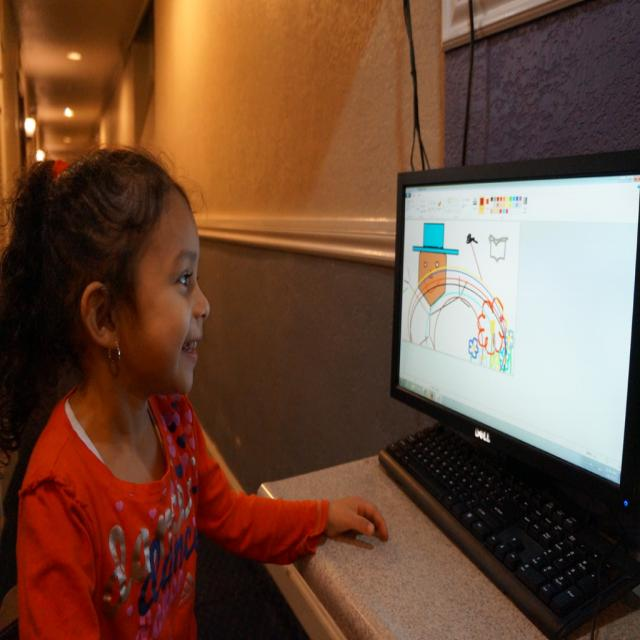desk: (257, 453, 640, 639)
laptop: (378, 157, 640, 637)
person: (8, 144, 392, 630)
